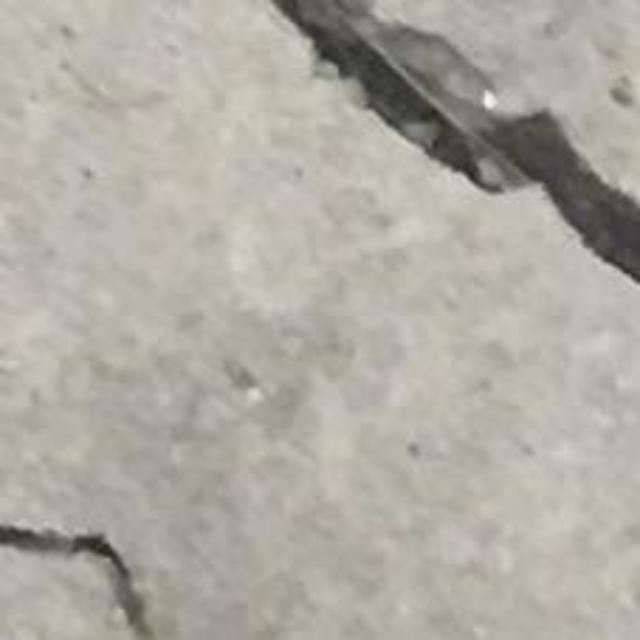crack: (268, 0, 639, 281)
